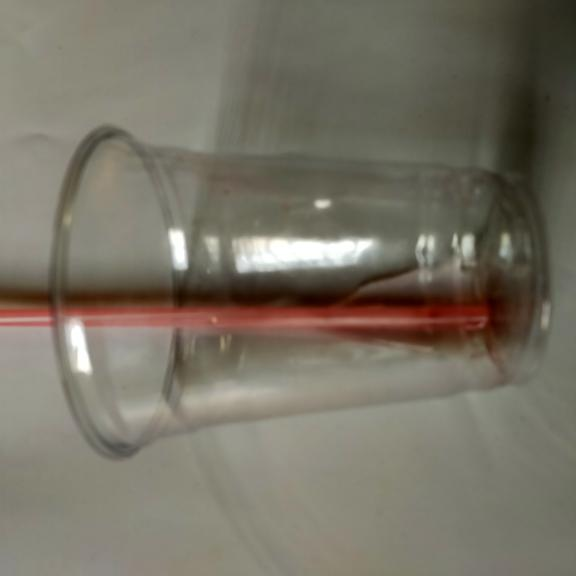Plastik: (52, 127, 550, 456)
